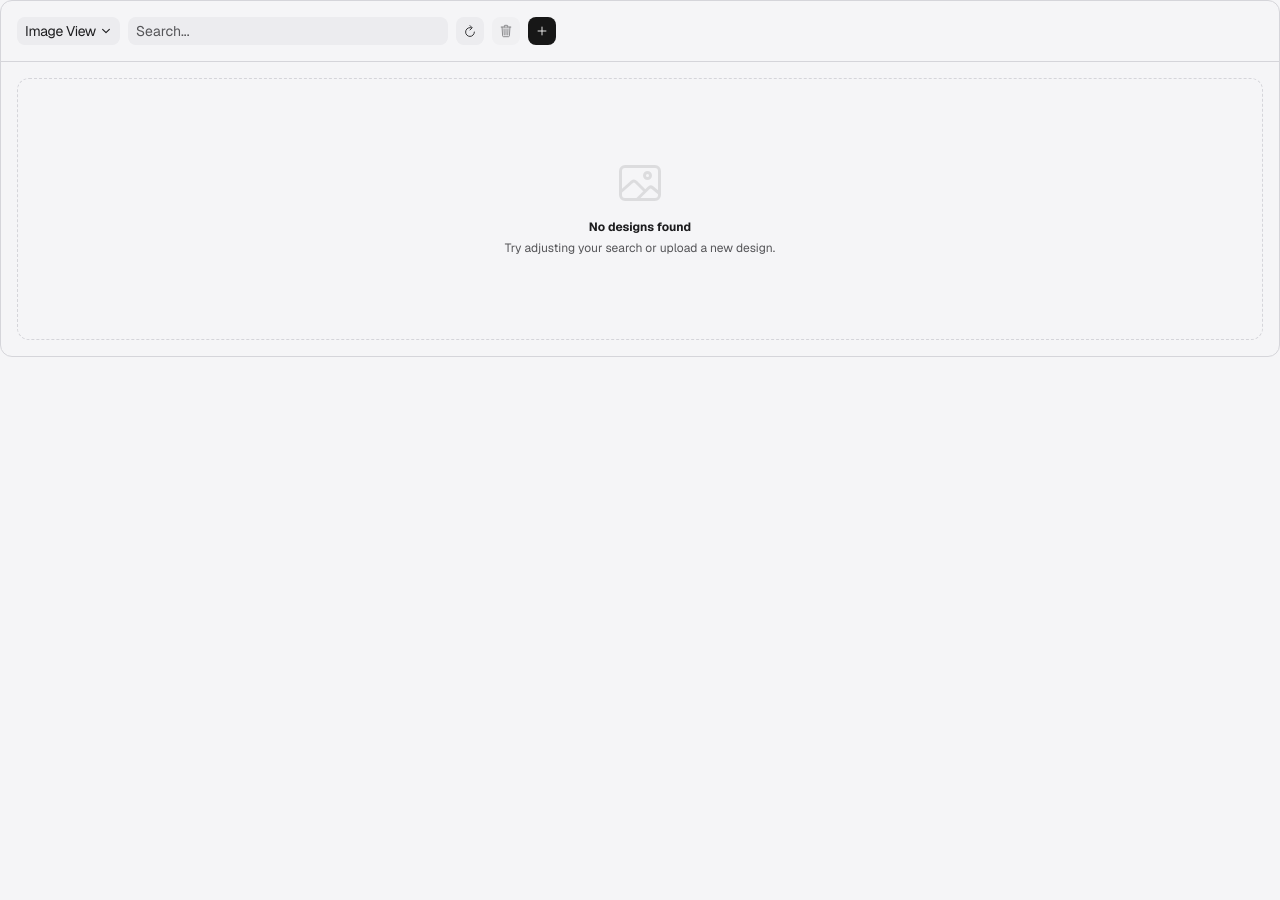
Test case: DesignRepository — what an edit submits › a design cannot be saved without artwork
The image size is (1280, 900).
Click the button named "Upload Design" at (542, 31), box x1=528 y1=17 x2=556 y2=45
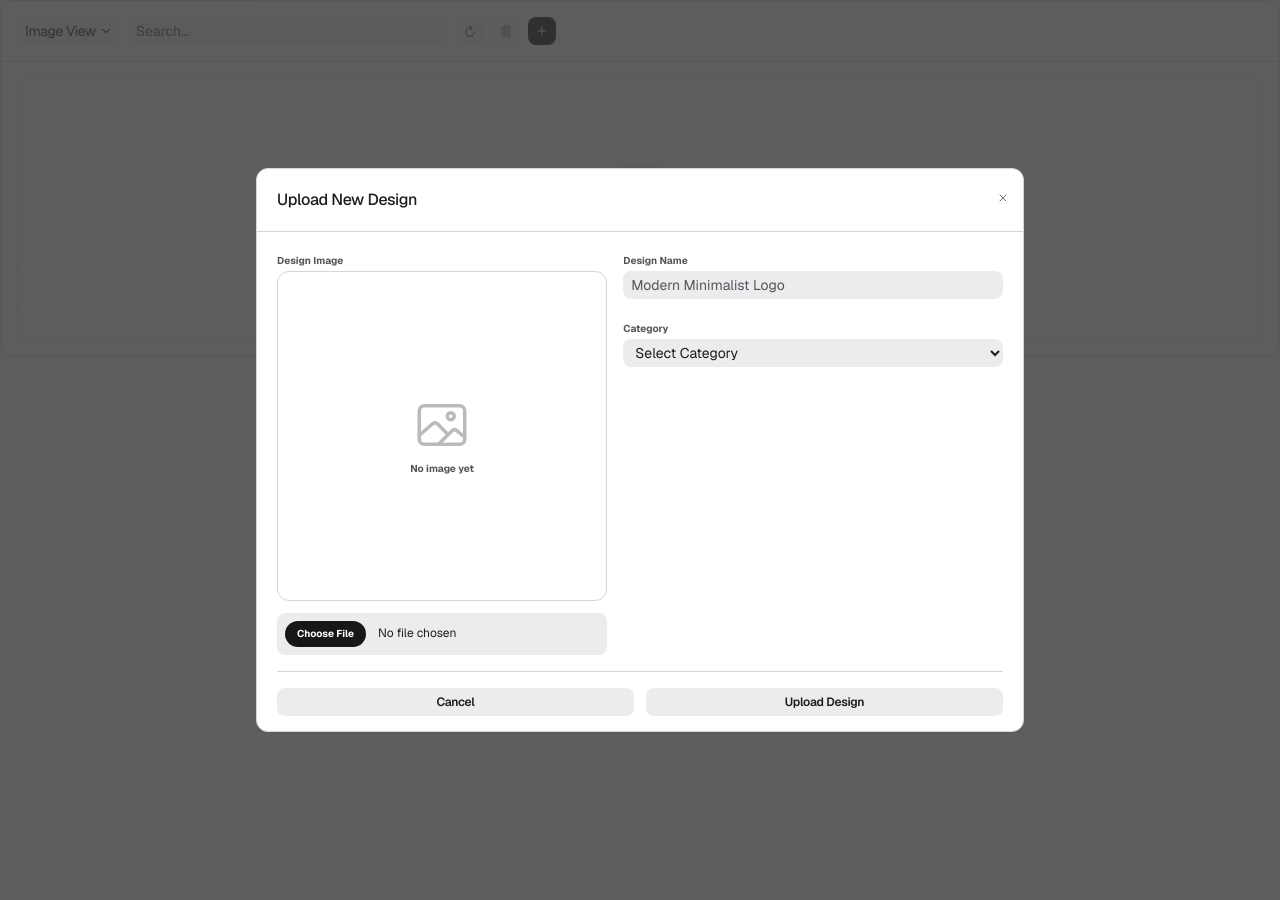
Type "No Art" into the field with placeholder "Modern Minimalist Logo" at (813, 285), box x1=623 y1=271 x2=1003 y2=299
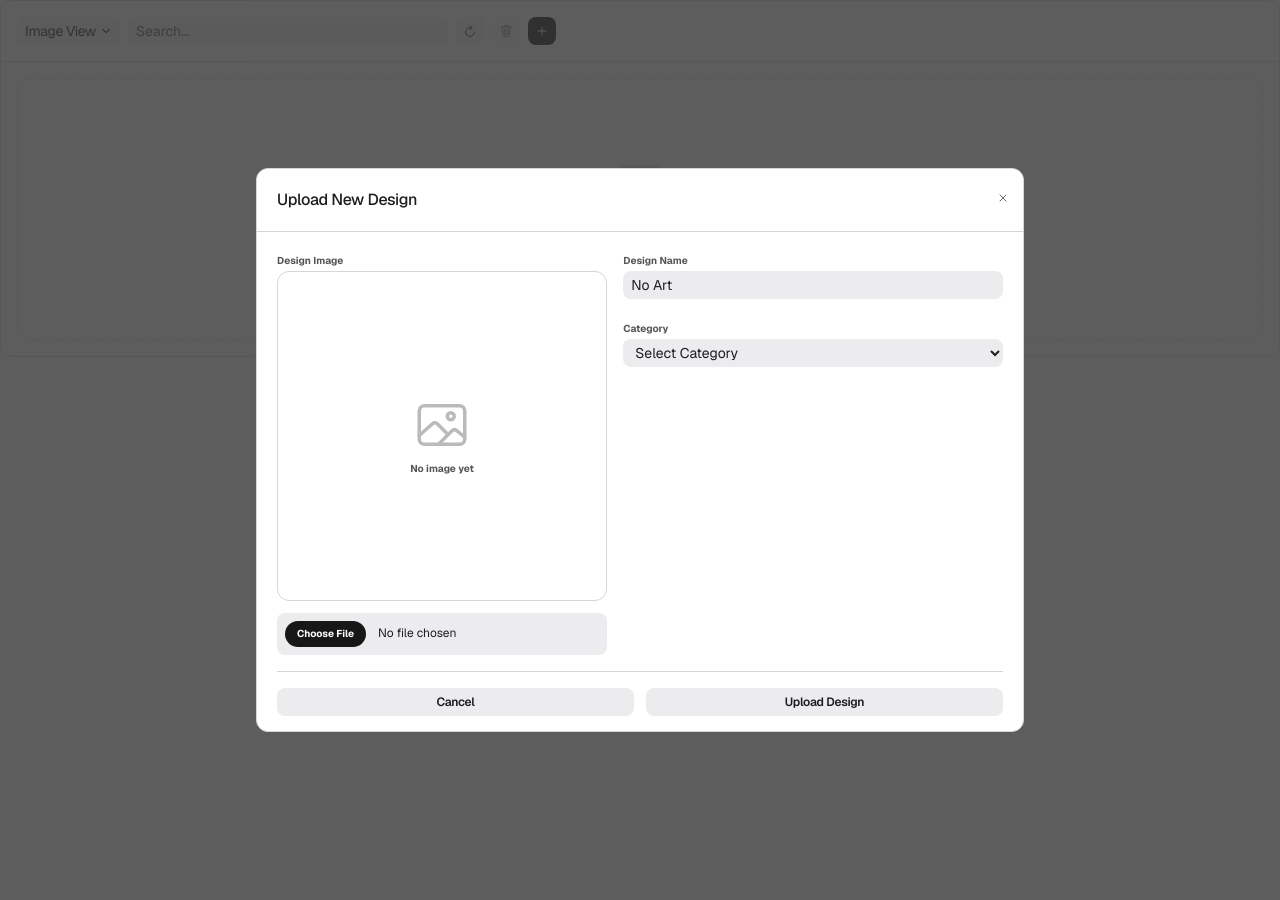
Select "Logo" in the dropdown at (813, 353), box x1=623 y1=339 x2=1003 y2=367
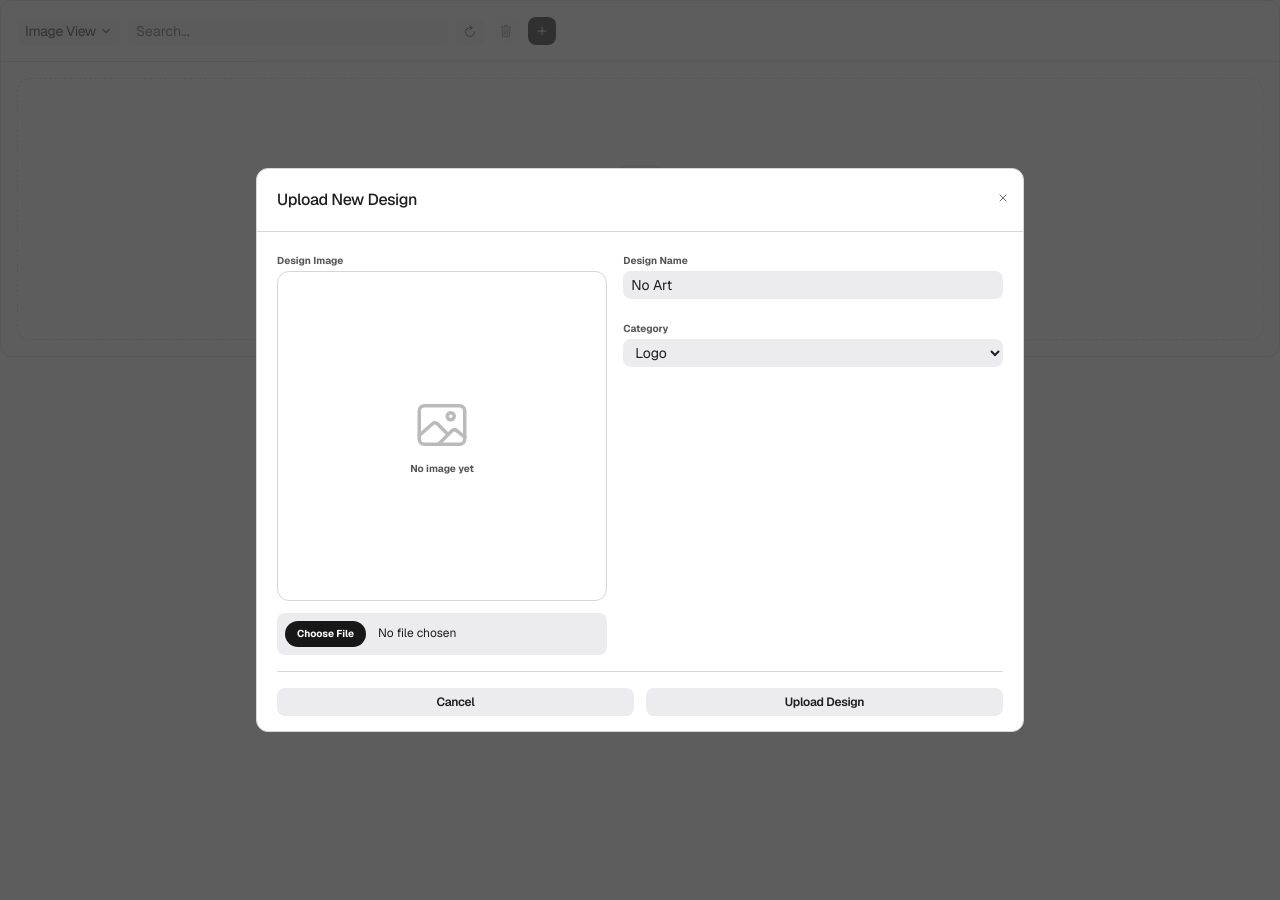
Click the button "Upload Design" at (824, 702), box x1=646 y1=688 x2=1003 y2=716
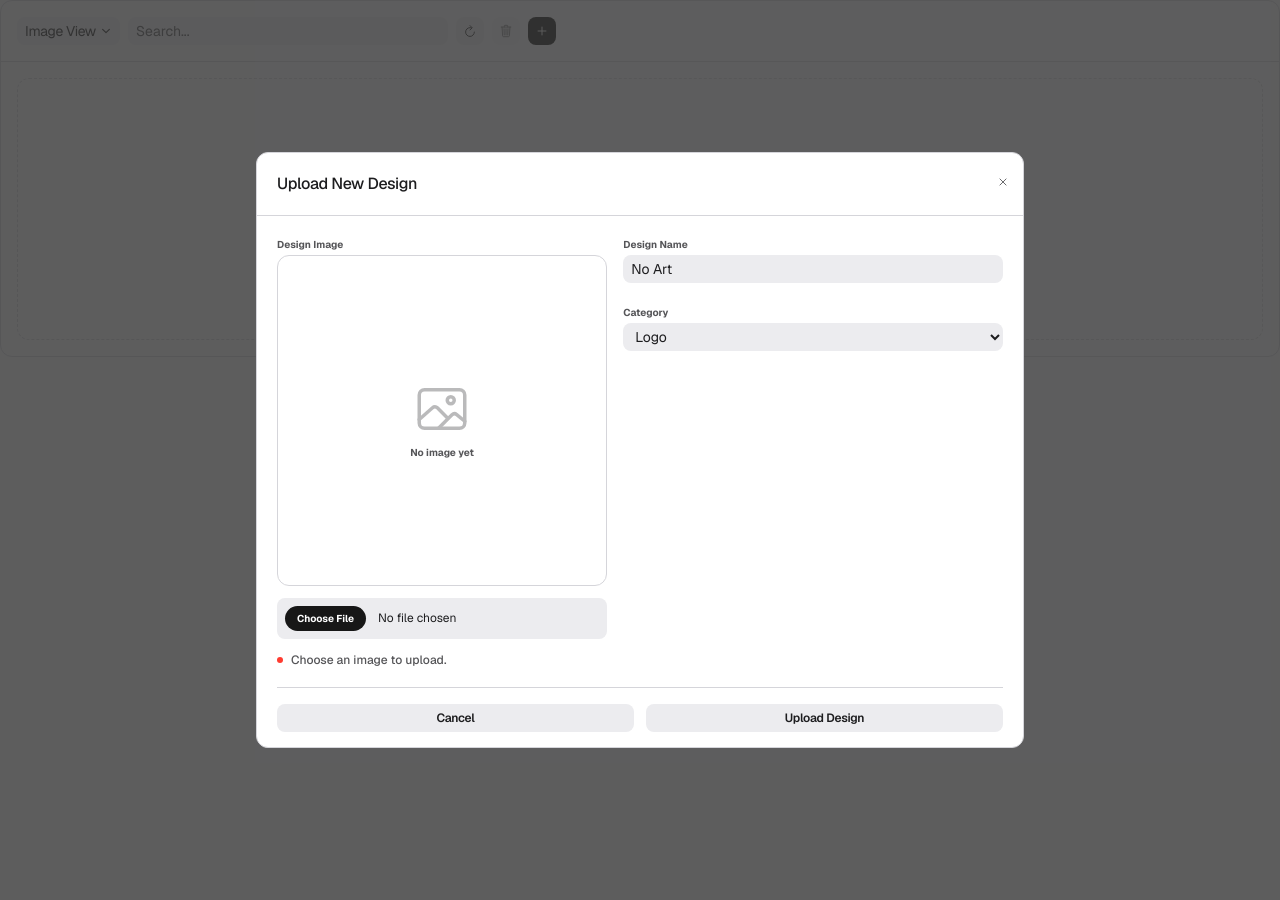
Expected: the text "Choose an image to upload." is shown, x1=291 y1=652 x2=446 y2=668
